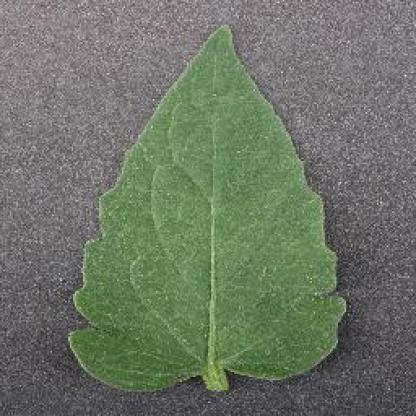bad leaf: (33, 18, 368, 394)
